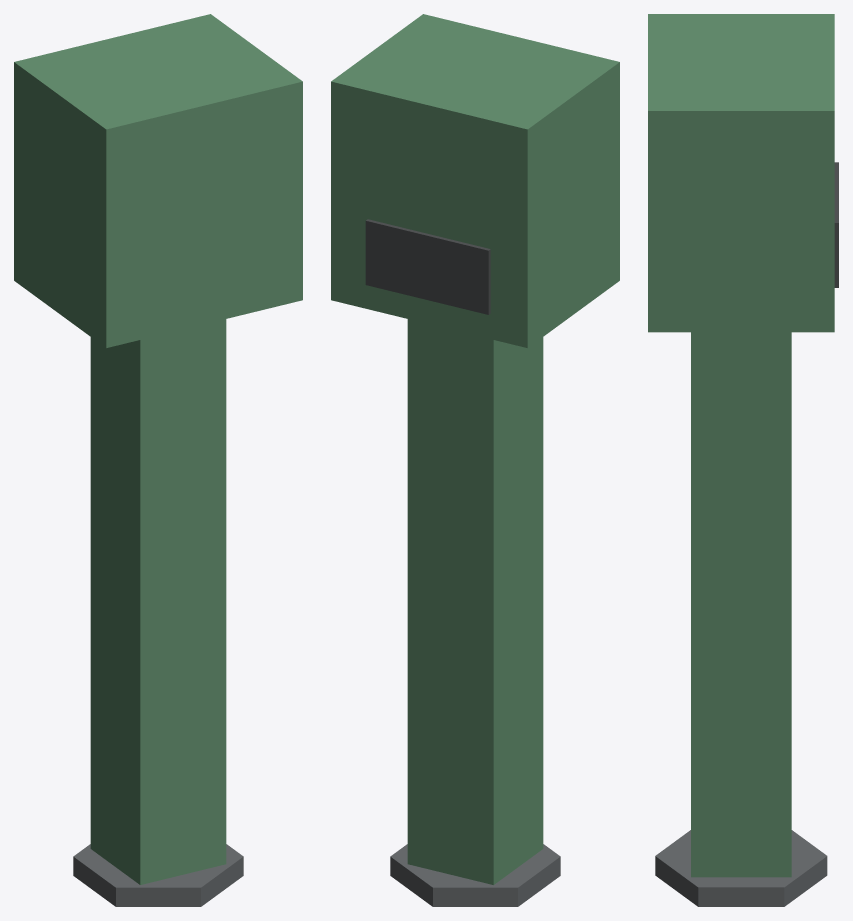
The model's file is bin_robidog.glb.
The picture shows the model from 3 angles, left to right: view 1: azimuth 30°, elevation 25°; view 2: azimuth 150°, elevation 25°; view 3: azimuth 270°, elevation 25°; orthographic projection.
Bounding box in the file's own units: 0.32 × 1.25 × 0.266.
